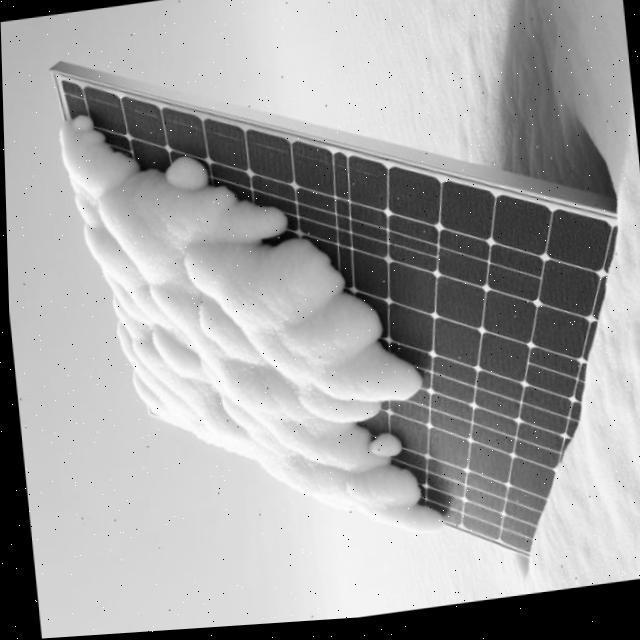Anomaly Solar Panel: (6, 77, 624, 569)
Snow: (4, 63, 514, 622)
